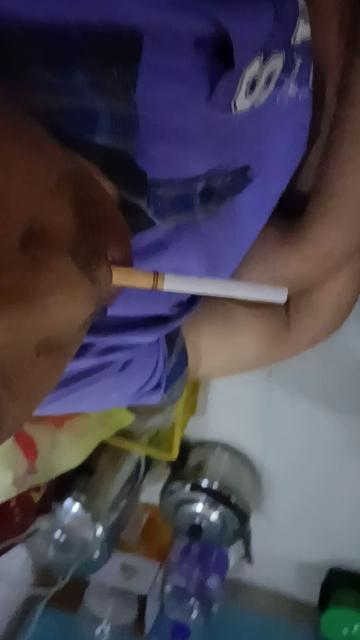Smoking: (110, 266, 290, 308)
